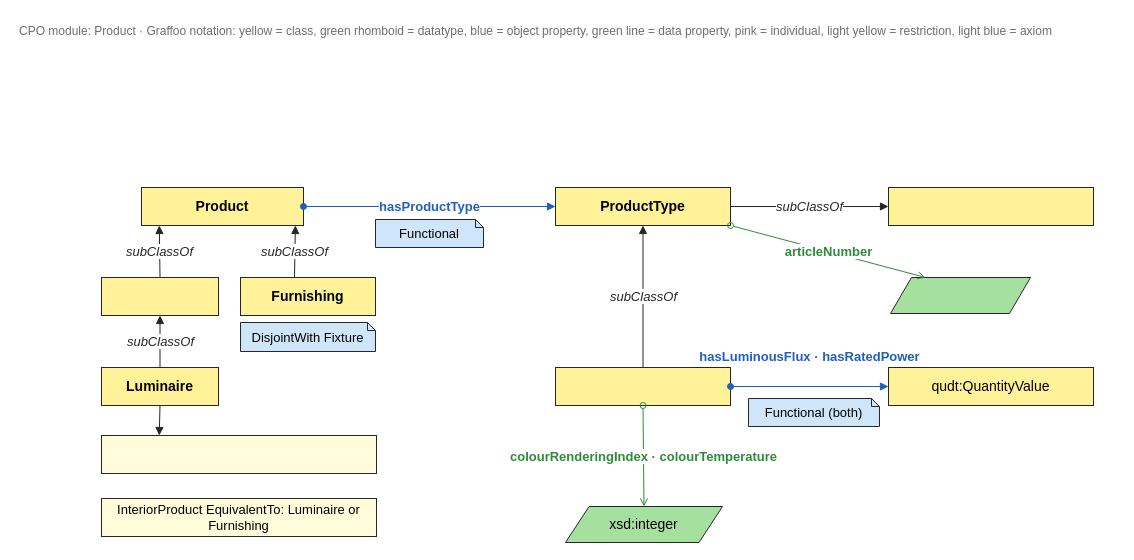
Some shapes in this 1134 by 560 pixel diagram are drawn without their labels. The shapes that lost their labels are listed below. From the top down, each one's box as (x1, y1, x2, y2) in pixels, then its label:
(888, 186, 1094, 226): resourceODP:Resource
(100, 276, 218, 316): Fixture
(890, 276, 1030, 314): xsd:string
(554, 366, 730, 406): LuminaireType
(100, 434, 376, 474): SubClassOf: hasProductType exactly 1 LuminaireType
